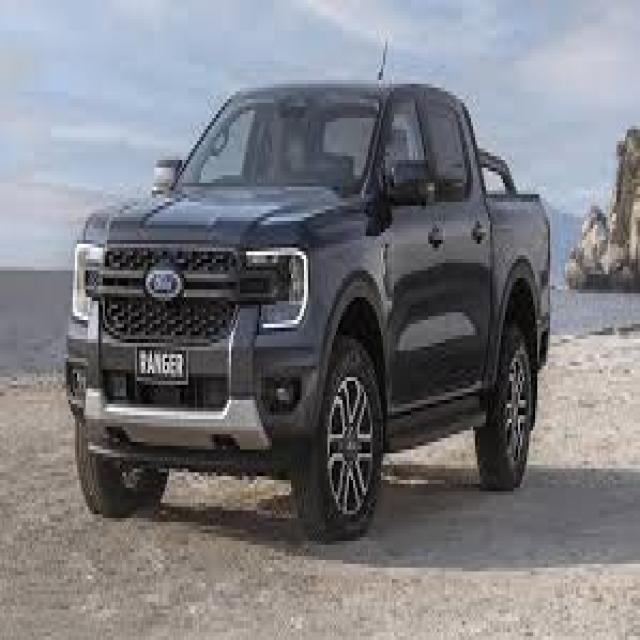Pickup Trucks: (64, 88, 552, 541)
